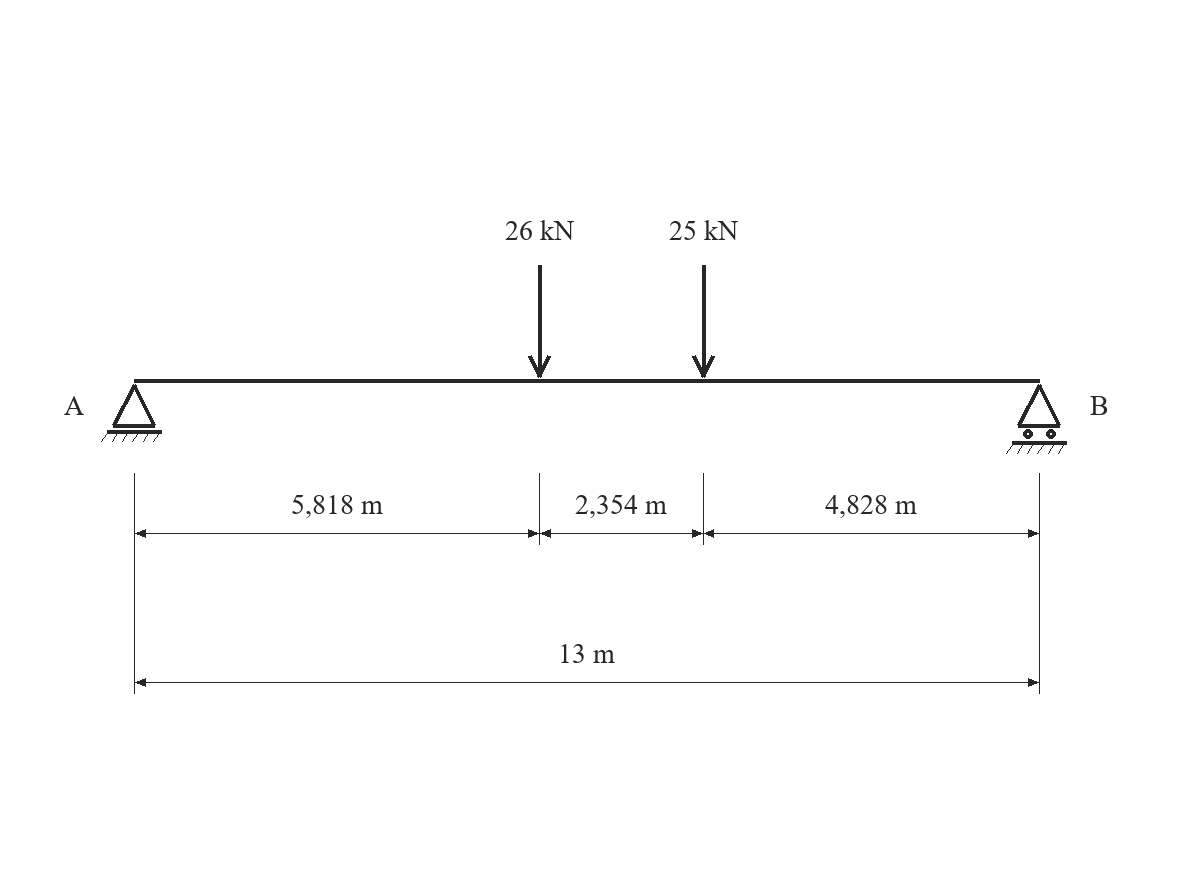pin_support: (101, 384, 162, 442)
point_load: (528, 265, 551, 378), (692, 265, 715, 378)
roller_support: (1006, 384, 1067, 454)
